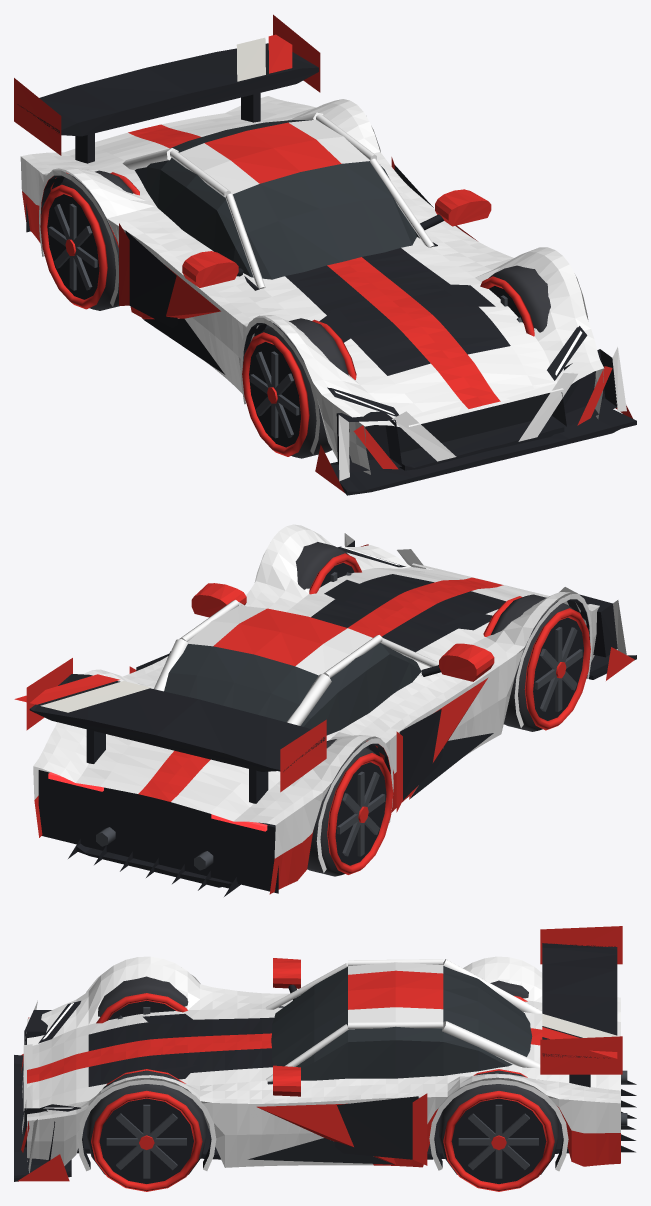
Rendered from tourer.glb.
The picture shows the model from 3 angles, top to bottom: view 1: azimuth 30°, elevation 25°; view 2: azimuth 150°, elevation 25°; view 3: azimuth 270°, elevation 25°; orthographic projection. The views are drawn at different scales.
Visible parts, largest first — view 1: white:2, black:2, red:2, glass:2, red:0 (×3), black:0 (×3), rubber:0 (×3), metal:0 (×2), white:0, whiteAccent:2; view 2: black:2, white:2, red:2, glass:2, black:0 (×3), red:0 (×3), rubber:0 (×3), metal:0 (×3), white:0, whiteAccent:2, tail:0; view 3: white:2, black:2, red:2, glass:2, black:0 (×3), red:0 (×3), rubber:0 (×3), metal:0 (×2), white:0, whiteAccent:2.
Boxes of the visible parts, <box> form: white:2: <box>20,96,626,481</box>; black:2: <box>17,43,636,495</box>; red:2: <box>14,14,632,492</box>; glass:2: <box>135,120,419,279</box>; red:0 (×3): <box>40,172,534,456</box>; black:0 (×3): <box>47,93,443,447</box>; rubber:0 (×3): <box>58,170,550,458</box>; metal:0 (×2): <box>48,203,299,438</box>; white:0: <box>122,112,434,288</box>; whiteAccent:2: <box>236,37,265,81</box>; black:2: <box>29,540,636,896</box>; white:2: <box>33,524,626,872</box>; red:2: <box>14,544,634,894</box>; glass:2: <box>164,643,421,735</box>; black:0 (×3): <box>86,617,583,865</box>; red:0 (×3): <box>309,553,590,874</box>; rubber:0 (×3): <box>295,542,573,876</box>; metal:0 (×3): <box>96,627,582,870</box>; white:0: <box>154,600,438,725</box>; whiteAccent:2: <box>40,681,151,712</box>; tail:0: <box>48,772,267,831</box>; white:2: <box>22,956,620,1172</box>; black:2: <box>14,943,636,1181</box>; red:2: <box>17,926,622,1181</box>; glass:2: <box>271,966,532,1080</box>; black:0 (×3): <box>99,1000,546,1183</box>; red:0 (×3): <box>91,993,554,1191</box>; rubber:0 (×3): <box>86,976,558,1174</box>; metal:0 (×2): <box>106,1104,538,1178</box>; white:0: <box>266,959,542,1081</box>; whiteAccent:2: <box>542,1013,617,1037</box>.
Size of the model in its own units: 2.78 by 1.6 by 5.82.
